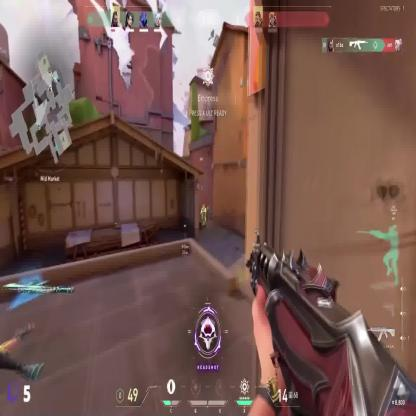enemy: (199, 203, 208, 228)
enemy_head: (202, 204, 205, 210)
